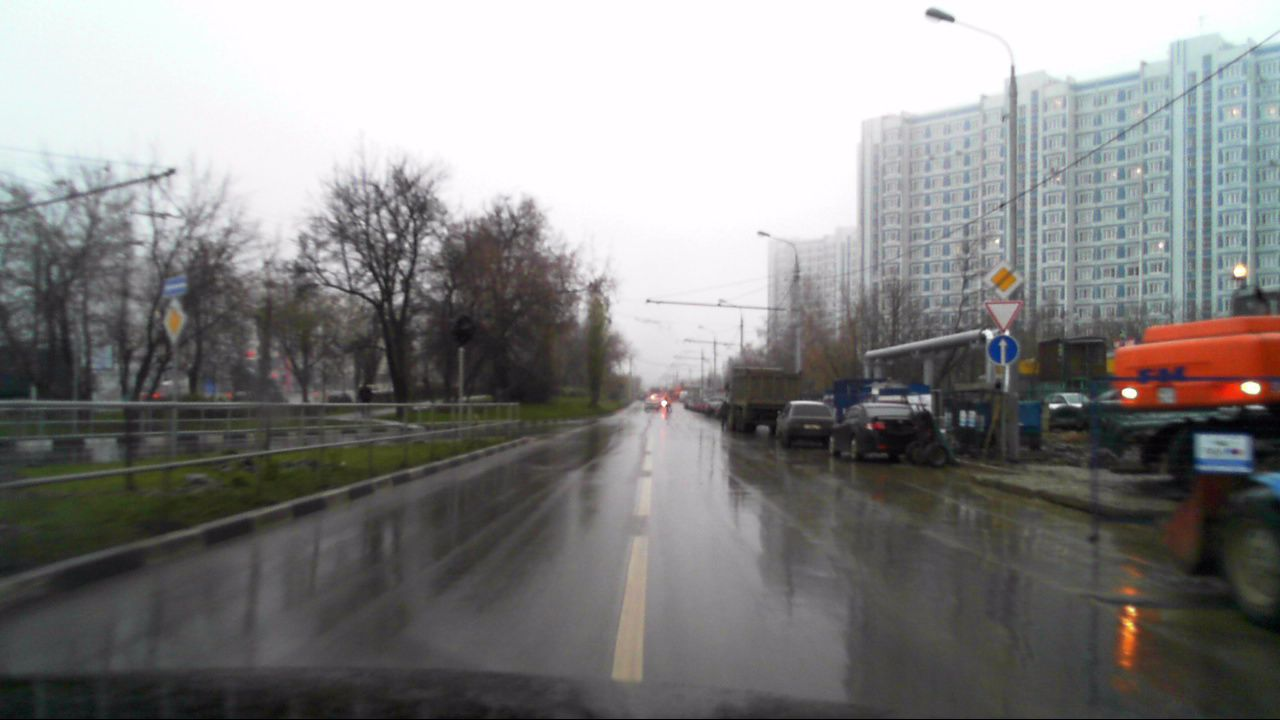main road: (984, 260, 1024, 299)
